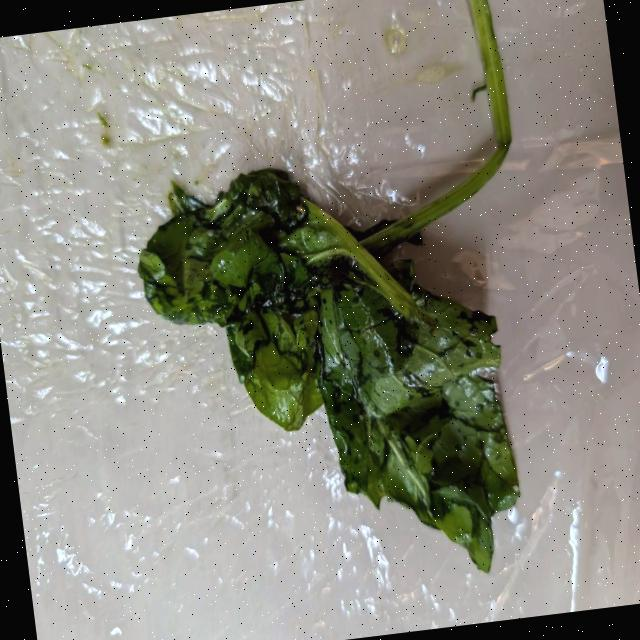rotten spinach: (81, 0, 589, 608), (130, 109, 550, 592), (259, 185, 477, 446)
